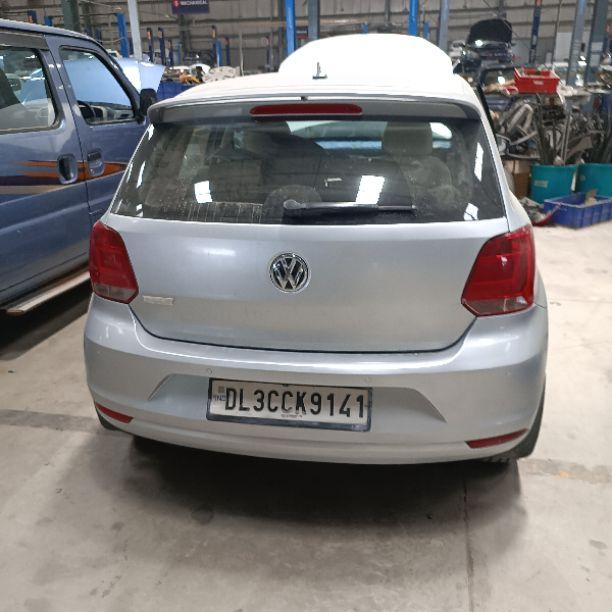license_plate: (205, 377, 372, 431)
